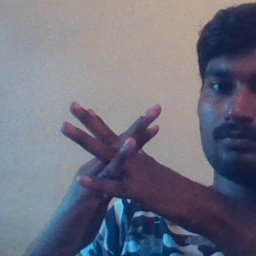W: (51, 90, 176, 225)
